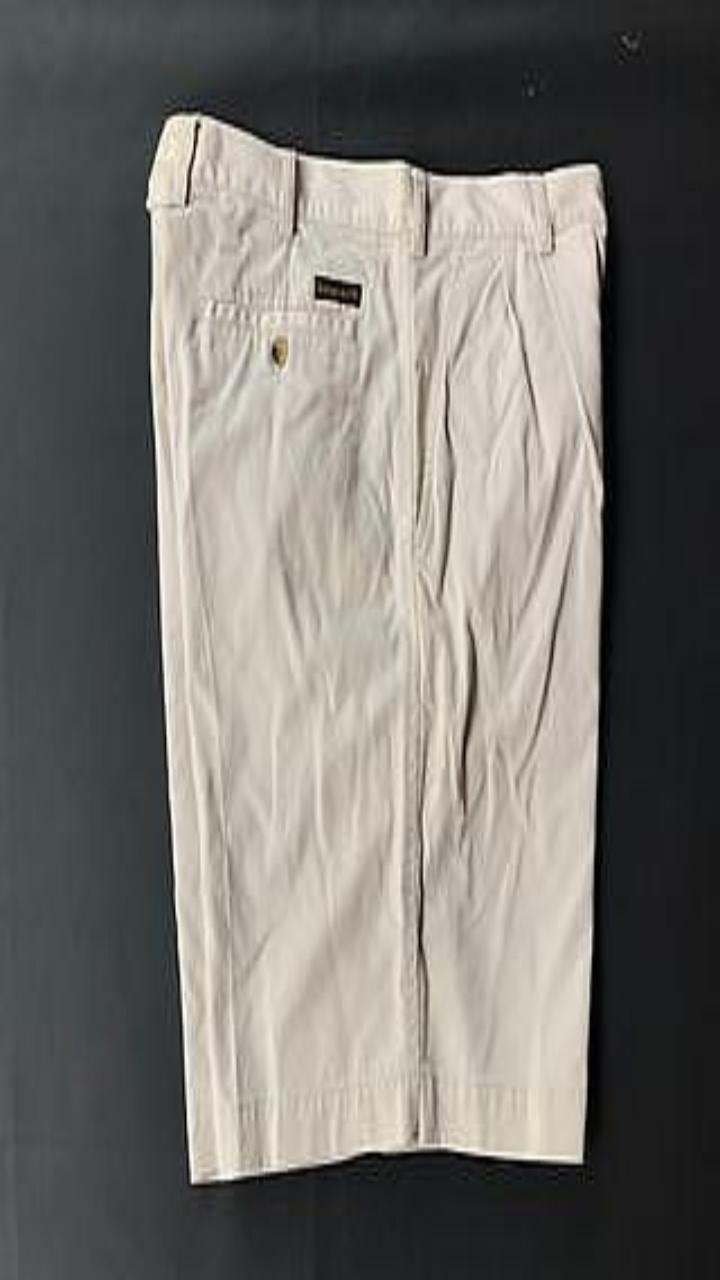Shorts: (147, 112, 606, 1182)
